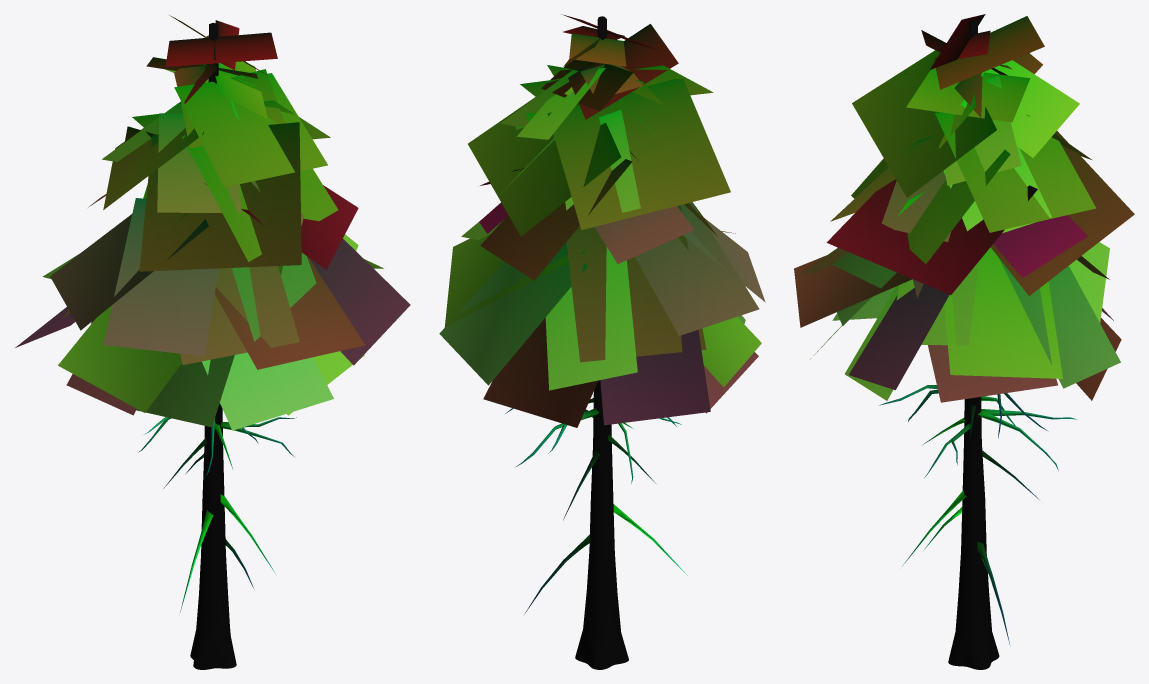
File: M_Pine_4_20.fbx
The picture shows the model from 3 angles, left to right: view 1: azimuth 30°, elevation 25°; view 2: azimuth 150°, elevation 25°; view 3: azimuth 270°, elevation 25°; orthographic projection.
Visible parts, largest first — view 1: Tree_20; view 2: Tree_20; view 3: Tree_20.
Boxes of the visible parts, bbox=[...] form: Tree_20: bbox=[15, 15, 410, 669]; Tree_20: bbox=[439, 14, 765, 669]; Tree_20: bbox=[794, 14, 1134, 669].
Size of the model in its own units: 774 by 1505 by 727.
